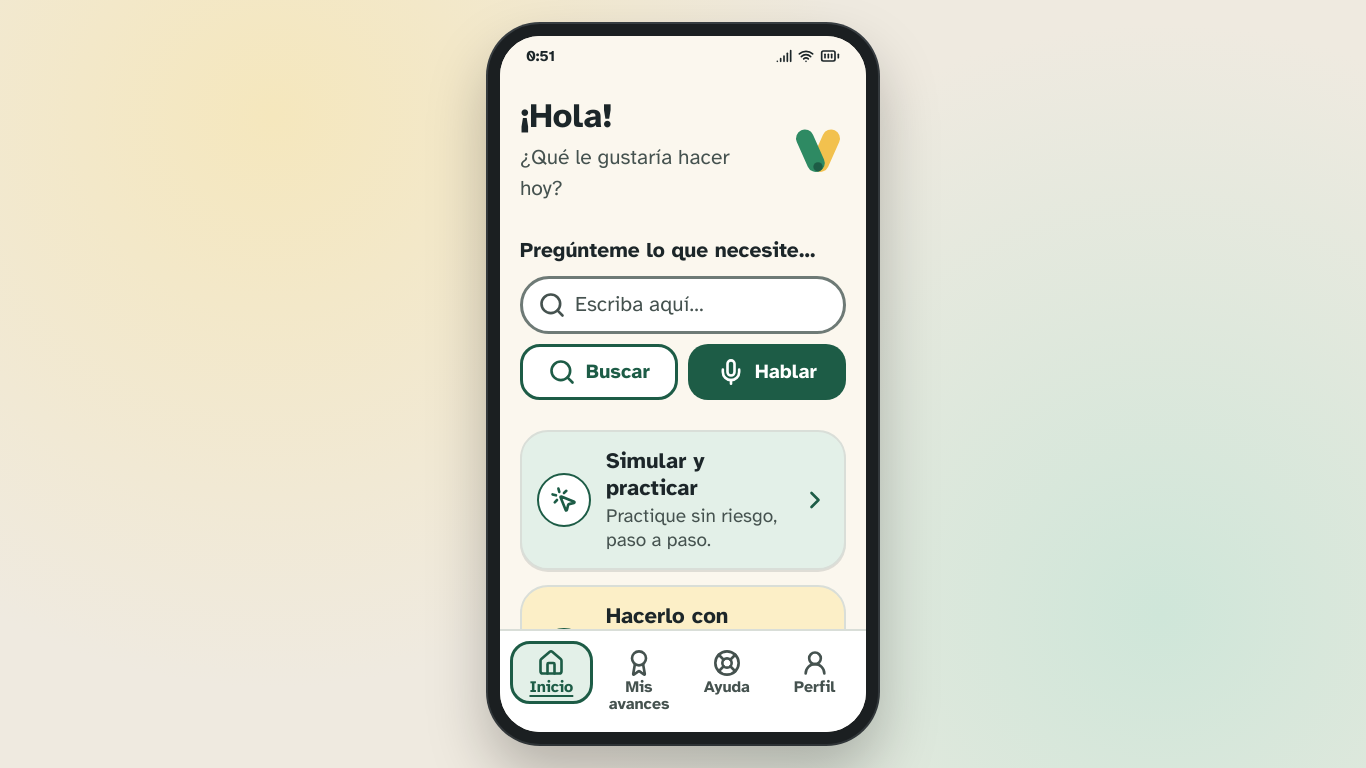
Test: pantalla 5: copiloto sin micrófono › el buscador del menú usa el motor del copiloto
Type "me llamaron del banco" into the search field labelled "Pregúnteme lo que necesite…".
click(683, 305); type("me llamaron del banco")  # box 520,276 -> 846,334
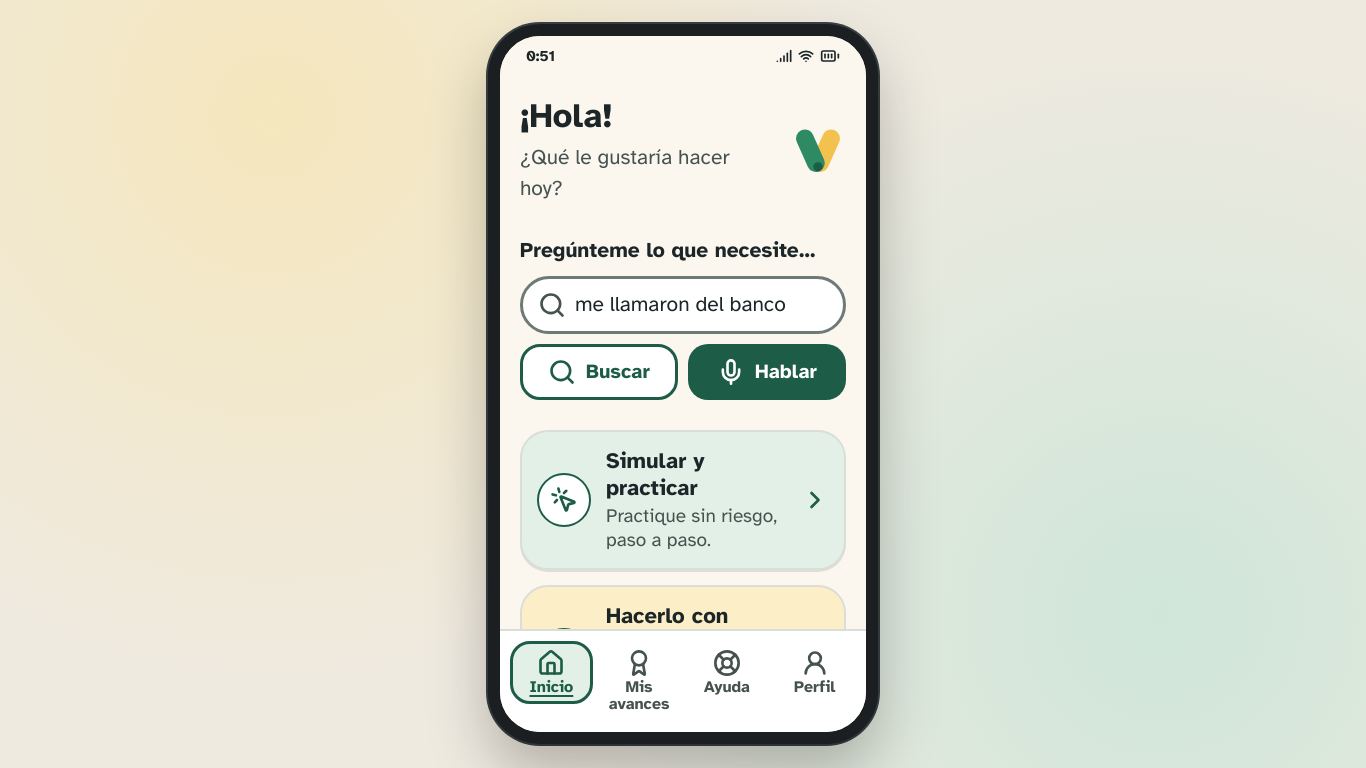
Click the button "Buscar".
click(599, 372)  # box 520,344 -> 678,400
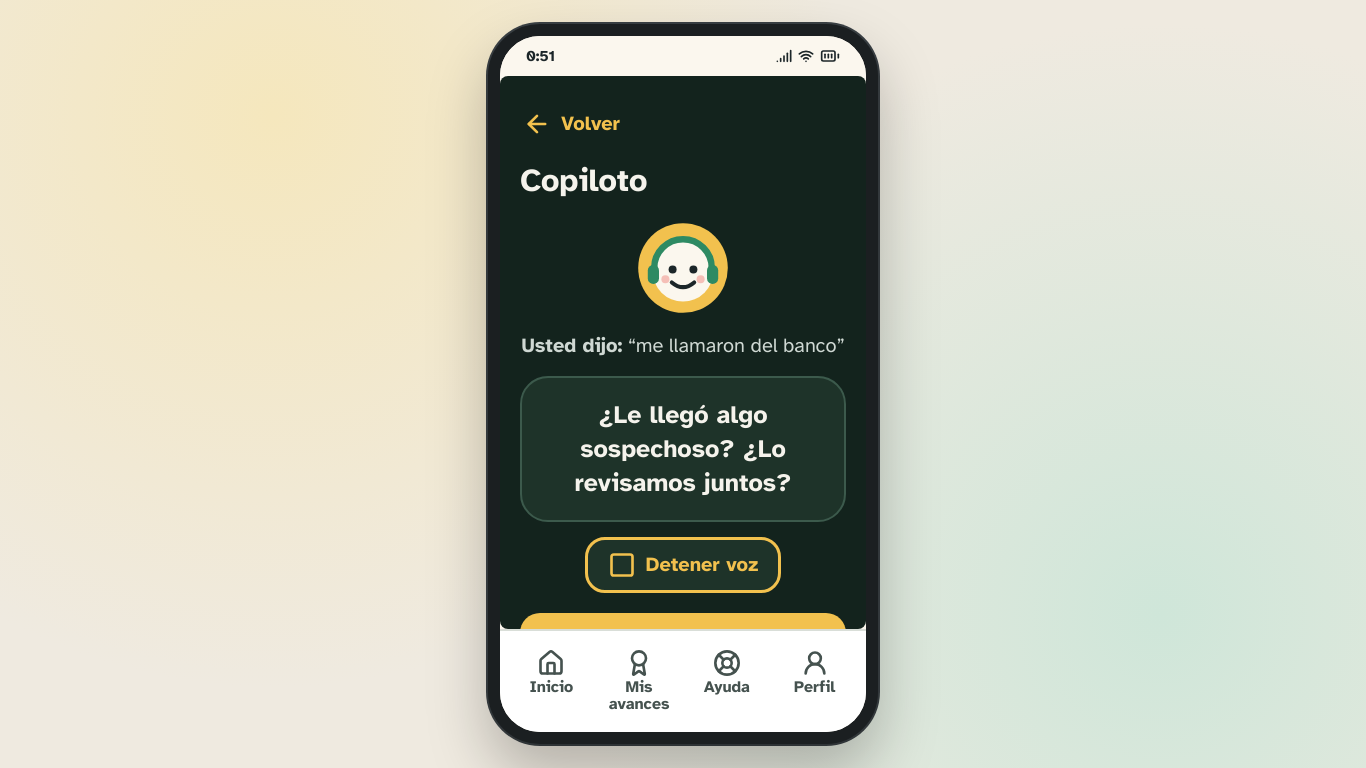
Check: the text "¿Le llegó algo sospechoso? ¿Lo revisamos juntos?" is shown, box 520,376 -> 846,522
